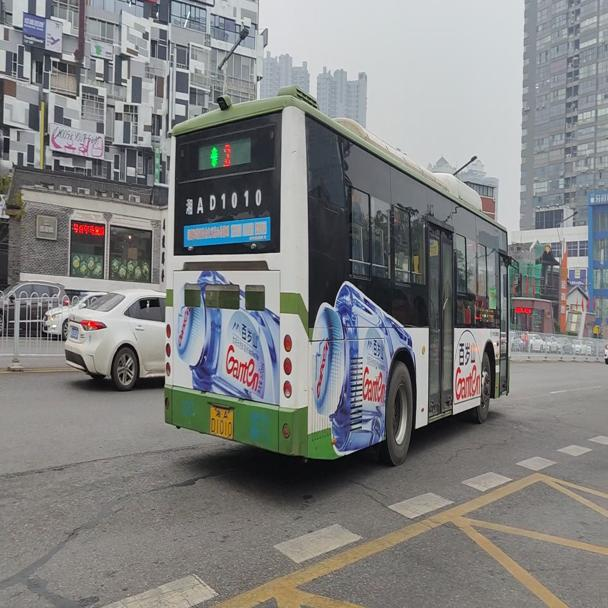bus: (162, 83, 522, 460)
screen: (218, 139, 235, 167)
